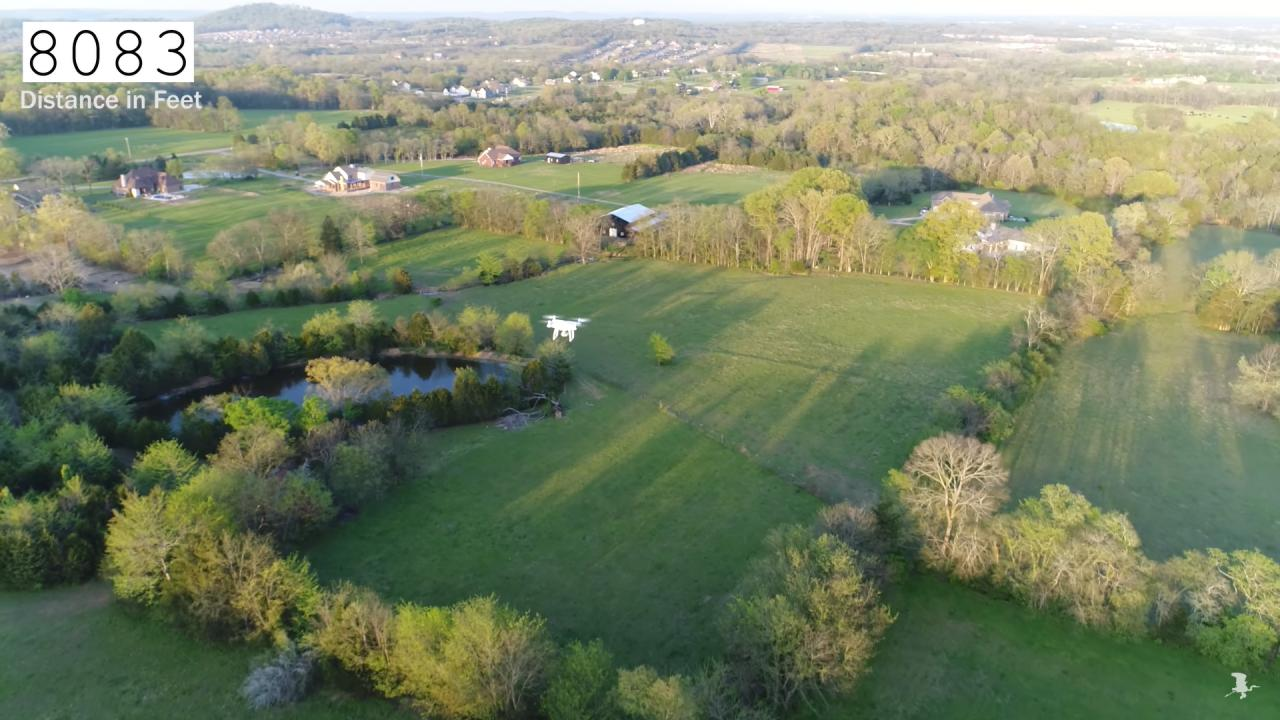Drone: (534, 308, 599, 352)
